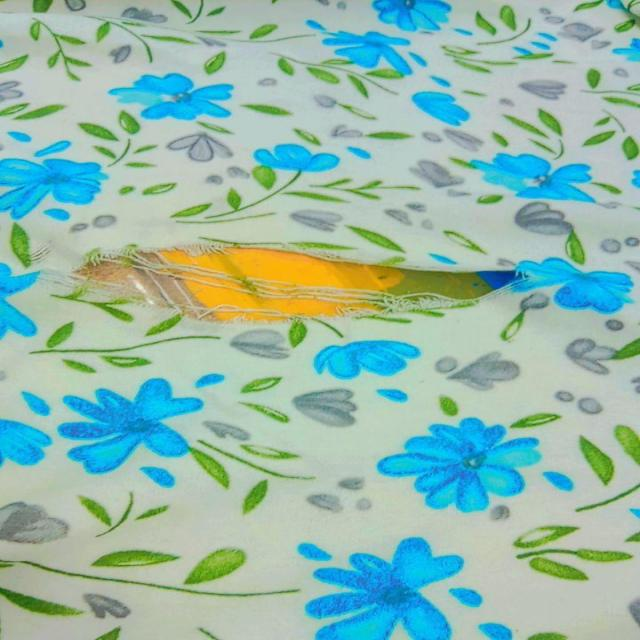cut: (56, 230, 546, 337)
